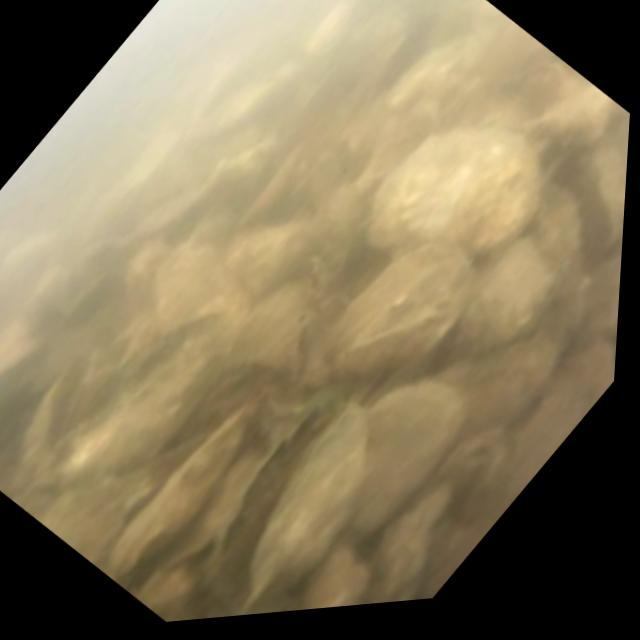Oyster-Indeterminate: (46, 340, 219, 483), (107, 407, 255, 574), (366, 128, 542, 262), (331, 238, 479, 393), (351, 381, 466, 550), (517, 345, 612, 490), (152, 230, 300, 319), (446, 246, 555, 356), (448, 334, 553, 426), (225, 289, 322, 379), (363, 501, 444, 604), (596, 139, 628, 225)
Oyster-Open: (208, 394, 367, 611)
